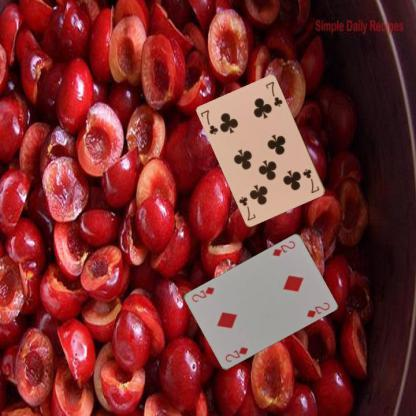2d: (222, 344, 250, 364), (270, 239, 297, 258)
7c: (198, 108, 220, 136), (300, 166, 320, 195)
